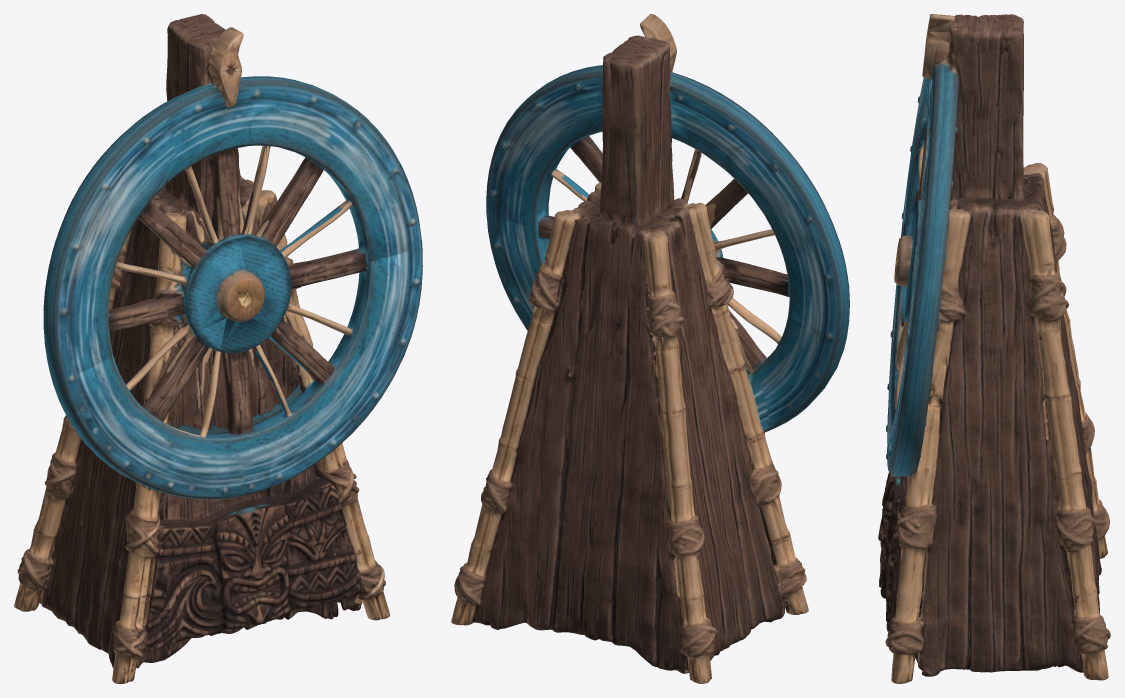
File: wheel.glb
3 renders of one model, left to right at view 1: azimuth 30°, elevation 25°; view 2: azimuth 150°, elevation 25°; view 3: azimuth 270°, elevation 25°, orthographic. The views are drawn at different scales.
Visible parts, largest first — view 1: disc, frame; view 2: frame, disc; view 3: frame, disc.
Boxes of the visible parts, x1,y1,x2,y2 form: disc: [43, 28, 422, 515]; frame: [14, 14, 389, 683]; frame: [451, 16, 808, 683]; disc: [486, 14, 849, 495]; frame: [878, 14, 1110, 683]; disc: [886, 14, 1046, 497].
Bounding box in the file's own units: 1.24 × 1.9 × 0.6634.
1 material, 1 textured.
